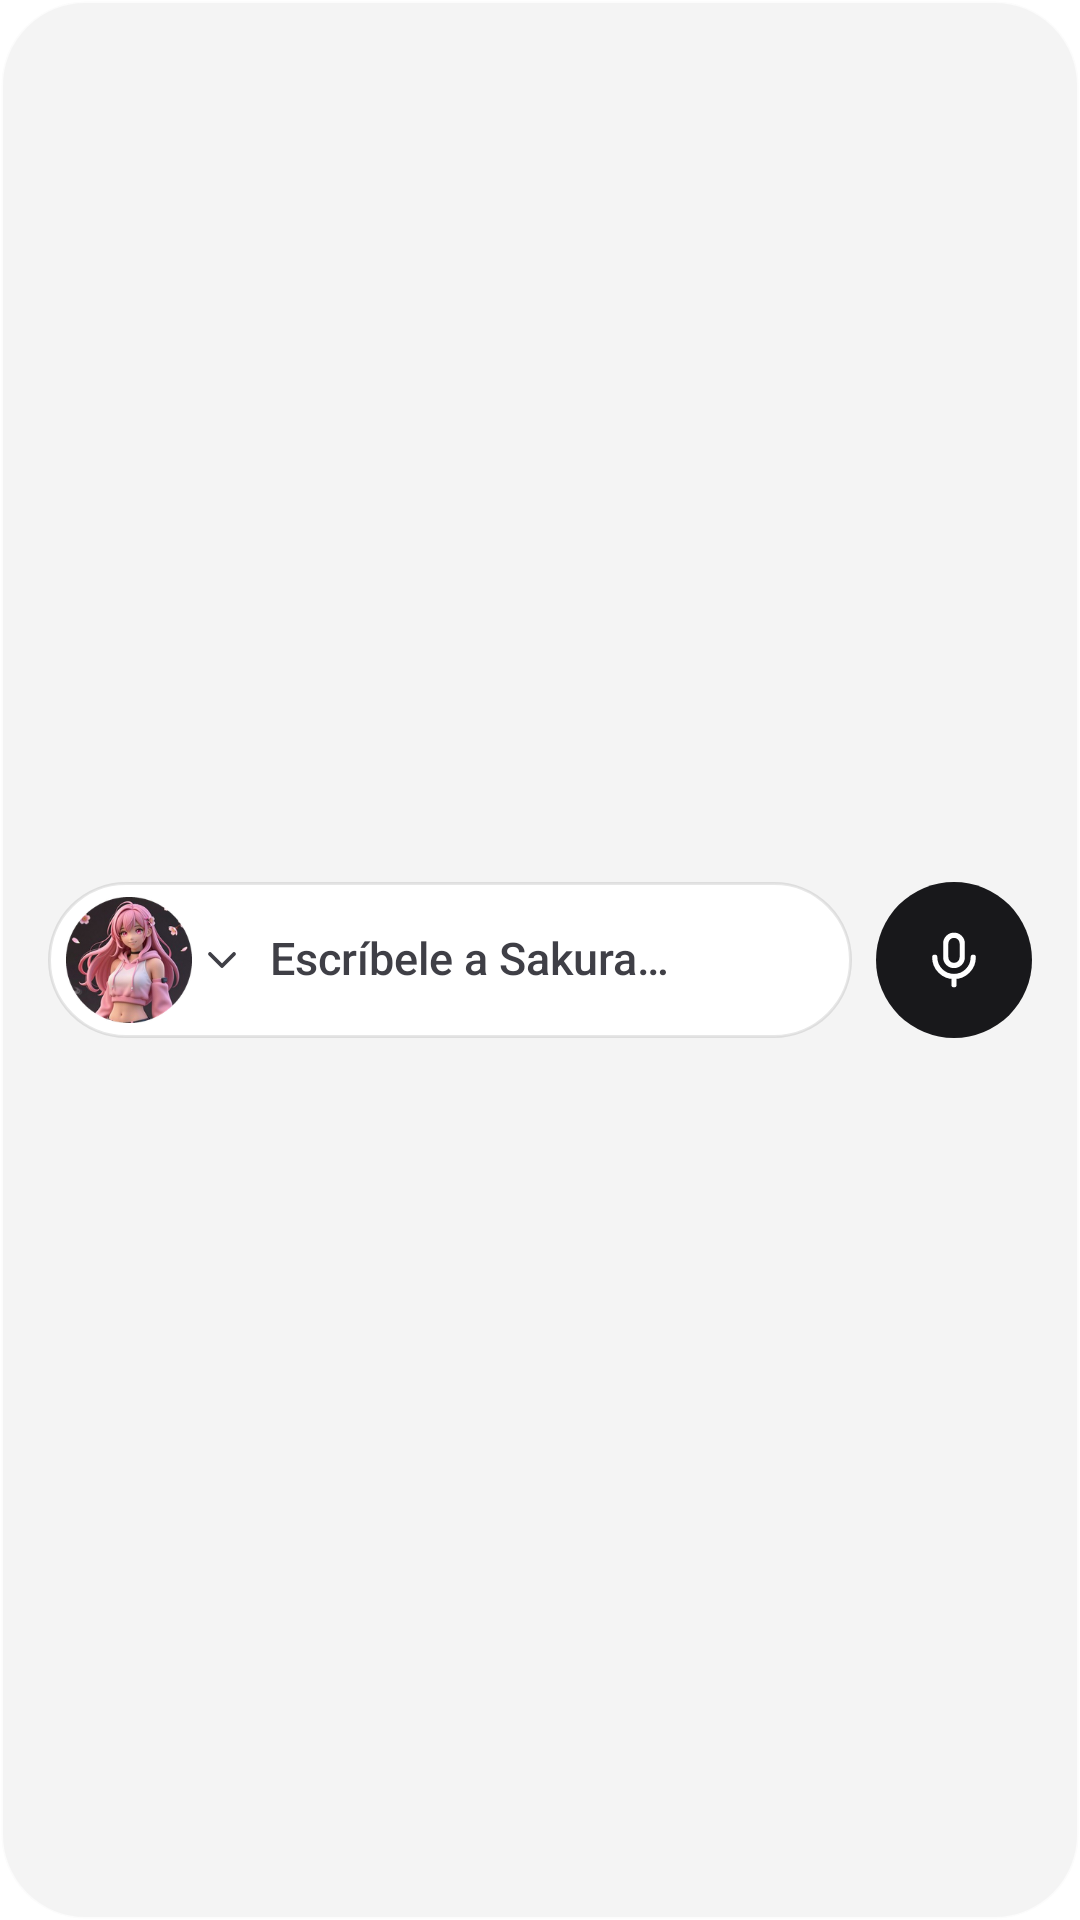

Locate icon controls on the screen. Image size 1080px x 1920px, boxes as (x1, y1, x2, y2).
Hablar con Sakura: (876, 882, 1032, 1038)
ui chevron down: (208, 952, 236, 968)
